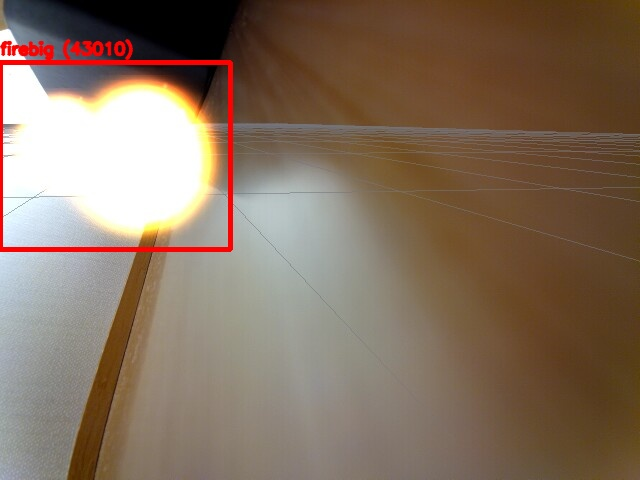firebig: (0, 62, 230, 249)
